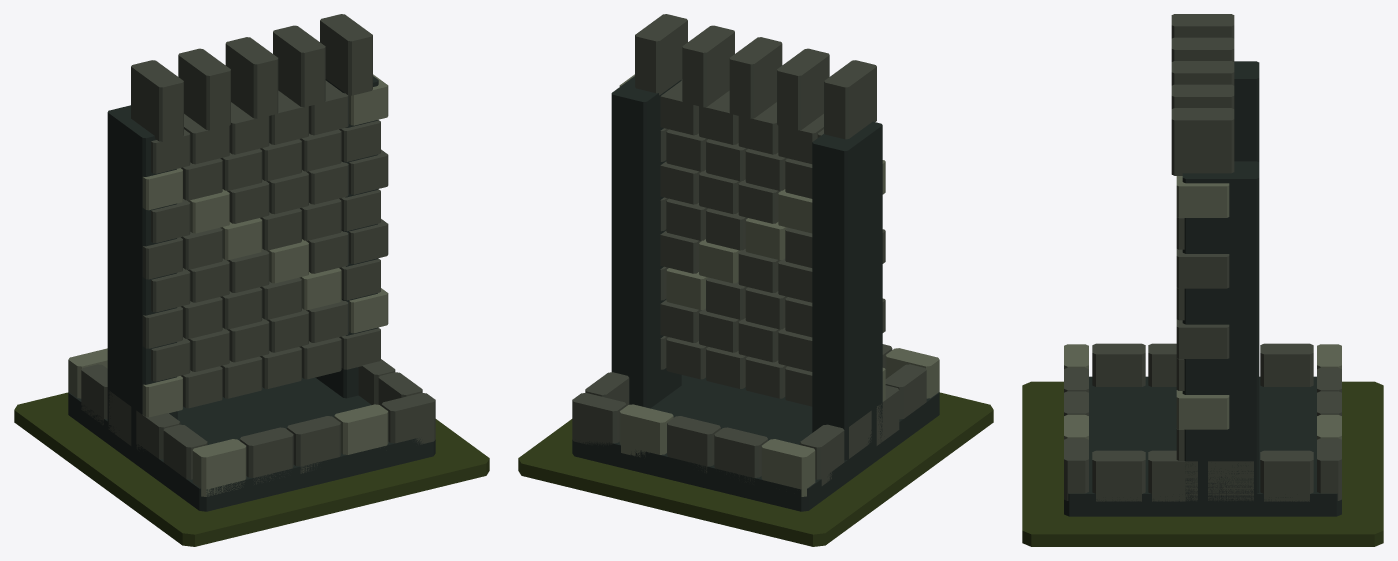
The model's file is stonewall_t5.glb.
3 views of the same model, side by side, from view 1: azimuth 30°, elevation 25°; view 2: azimuth 150°, elevation 25°; view 3: azimuth 270°, elevation 25° (orthographic).
Parts seen in each view (by area): view 1: MMR | stonewall | T05 Architecture.001, MMR | stonewall | Tier 05 Ground.001; view 2: MMR | stonewall | T05 Architecture.001, MMR | stonewall | Tier 05 Ground.001; view 3: MMR | stonewall | T05 Architecture.001, MMR | stonewall | Tier 05 Ground.001.
Boxes of the visible parts, x1=… form: MMR | stonewall | T05 Architecture.001: x1=68, y1=14, x2=435, y2=511; MMR | stonewall | Tier 05 Ground.001: x1=14, y1=392, x2=489, y2=546; MMR | stonewall | T05 Architecture.001: x1=572, y1=14, x2=939, y2=511; MMR | stonewall | Tier 05 Ground.001: x1=518, y1=392, x2=993, y2=546; MMR | stonewall | T05 Architecture.001: x1=1064, y1=14, x2=1341, y2=516; MMR | stonewall | Tier 05 Ground.001: x1=1022, y1=381, x2=1383, y2=546.
Bounding box in the file's own units: 1.3 × 1.6 × 1.3.
Materials: 1 (1 with a texture image).
